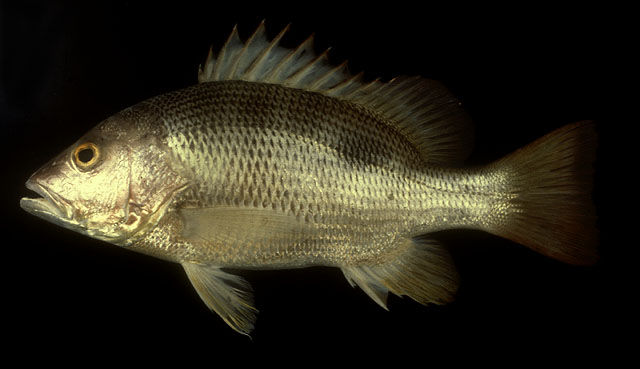fish: (20, 21, 588, 338)
